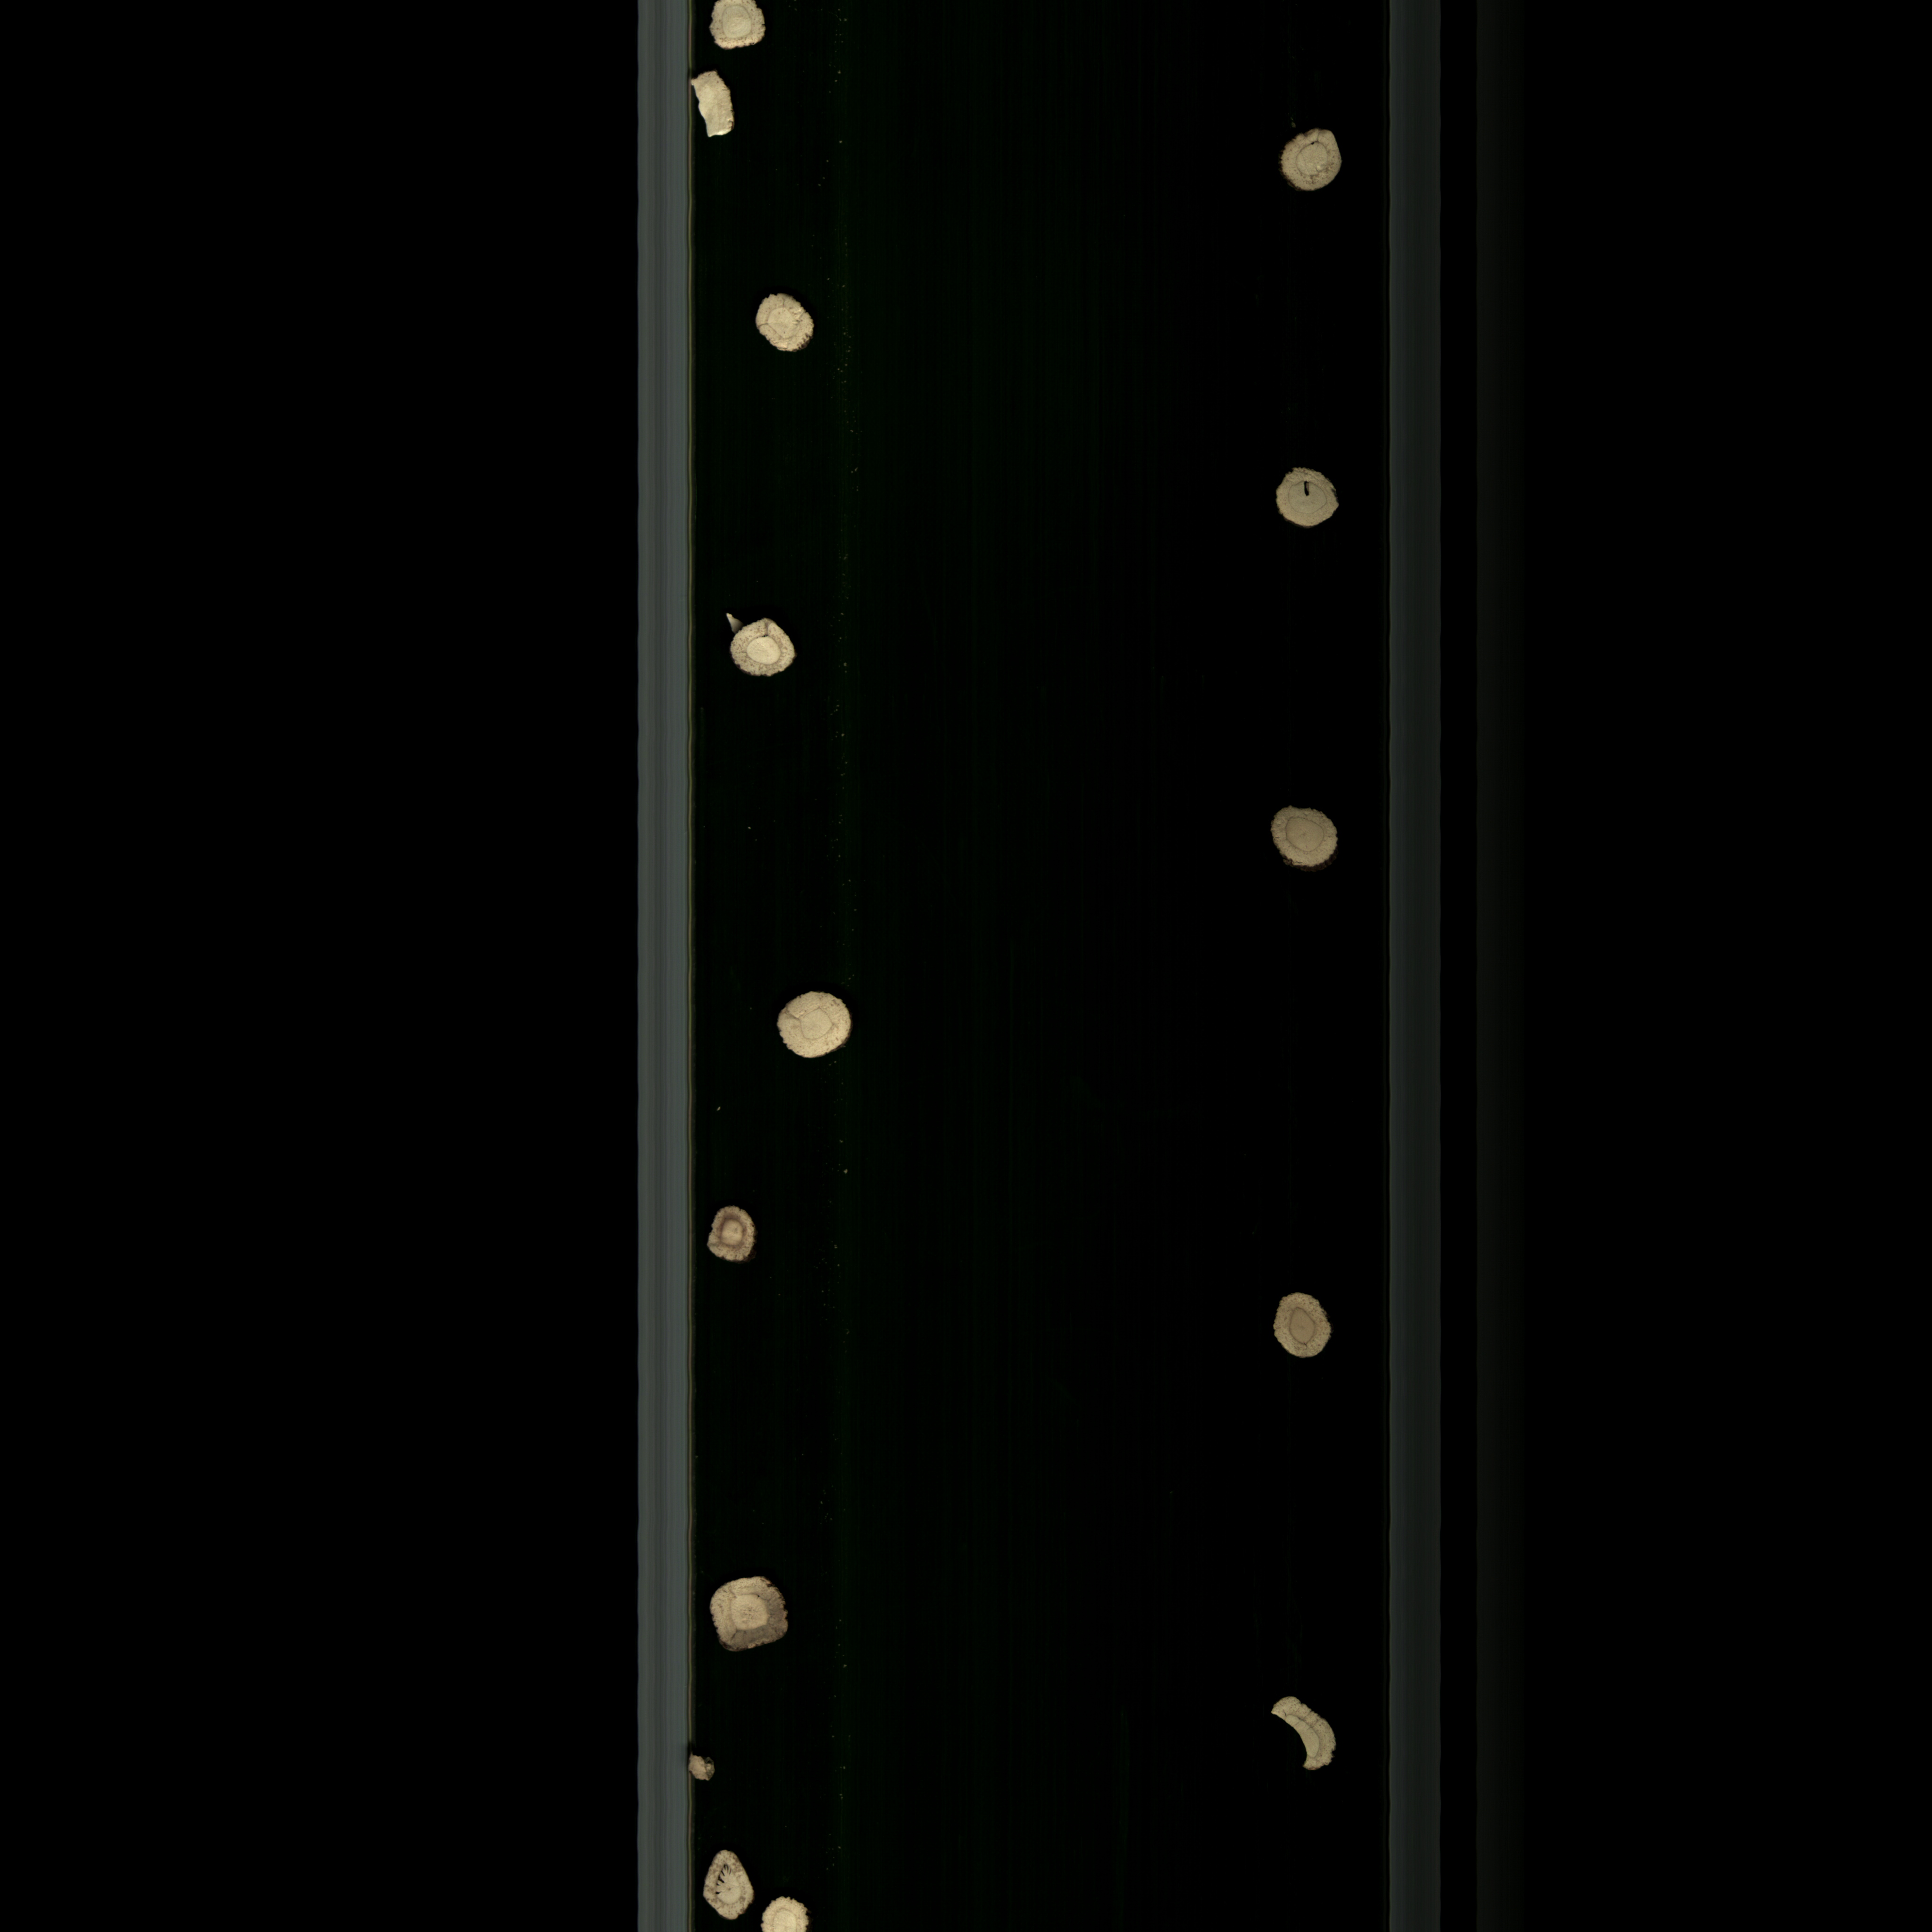debris: (1263, 1693, 1352, 1787)
distortion: (704, 1571, 805, 1660)
dreg: (685, 67, 750, 154), (683, 1744, 724, 1790), (713, 605, 743, 628)
hole: (1269, 458, 1352, 541), (699, 1842, 763, 1928)
moldy: (1269, 1288, 1339, 1373), (701, 1198, 764, 1270)
